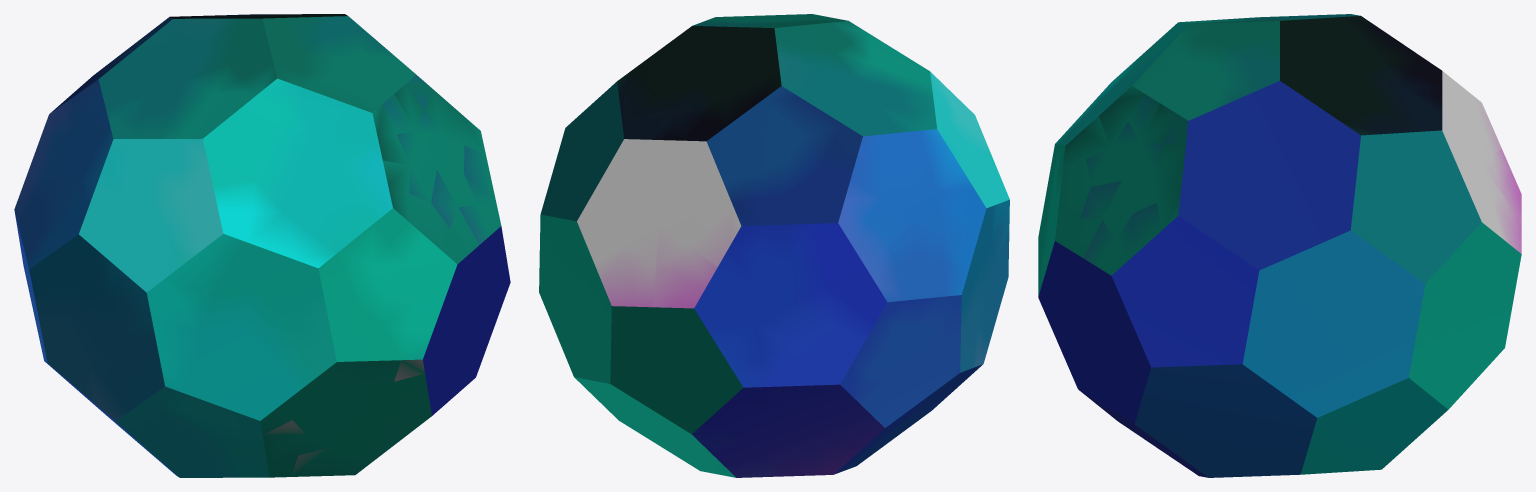
Rendered from ball.fbx.
3 renders of one model, left to right at view 1: azimuth 30°, elevation 25°; view 2: azimuth 150°, elevation 25°; view 3: azimuth 270°, elevation 25°, orthographic. The views are drawn at different scales.
Visible parts, largest first — view 1: pSolid1; view 2: pSolid1; view 3: pSolid1.
Part boxes in pixels (left/top/right/bottom): pSolid1: left=14, top=14, right=510, bottom=477; pSolid1: left=539, top=14, right=1009, bottom=477; pSolid1: left=1038, top=14, right=1521, bottom=477.
Size of the model in its own units: 1.97 by 2 by 1.95.
